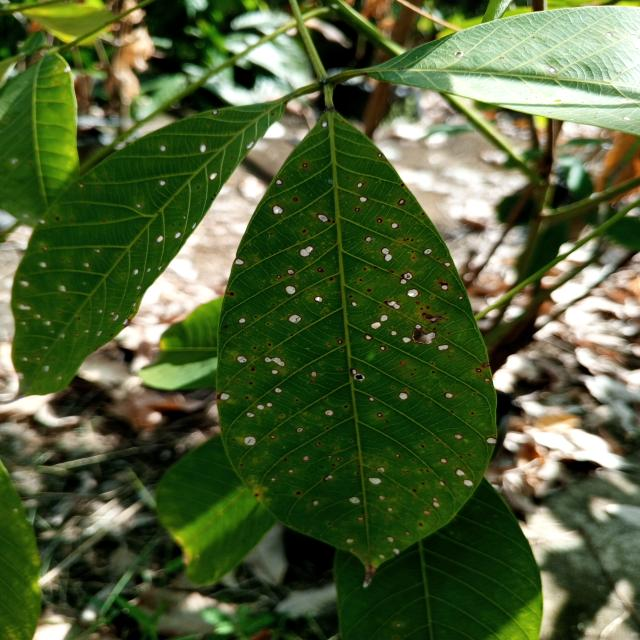Colletotrichum: (299, 245, 314, 257), (244, 435, 258, 446), (288, 314, 302, 324), (406, 288, 419, 298), (284, 285, 296, 295), (272, 205, 284, 215), (316, 213, 328, 223), (398, 392, 409, 401), (236, 356, 248, 364), (486, 436, 497, 444), (402, 272, 413, 280), (437, 344, 449, 351), (370, 322, 381, 329), (455, 468, 464, 476), (286, 268, 295, 276), (384, 254, 393, 262), (463, 479, 473, 486), (220, 393, 230, 400), (234, 258, 244, 265), (381, 247, 389, 255), (423, 248, 432, 255), (444, 392, 454, 398), (295, 427, 304, 433), (376, 466, 385, 472), (402, 337, 411, 343), (314, 296, 323, 302), (381, 315, 388, 322), (376, 412, 384, 418), (438, 480, 446, 486), (302, 455, 310, 461), (325, 410, 333, 416), (274, 387, 282, 393), (379, 345, 387, 351), (365, 334, 373, 340), (238, 317, 246, 323), (360, 196, 368, 202), (453, 434, 462, 439), (246, 412, 255, 417), (257, 404, 264, 410), (310, 371, 317, 377), (351, 301, 358, 307), (441, 284, 448, 290), (391, 223, 398, 229), (398, 199, 405, 205), (390, 331, 398, 336), (352, 368, 358, 374), (365, 236, 371, 242), (440, 458, 447, 463), (415, 324, 422, 329), (271, 369, 278, 374), (444, 262, 451, 267), (376, 218, 383, 223), (483, 378, 491, 382), (378, 495, 386, 499), (356, 516, 364, 520), (266, 402, 272, 407), (357, 183, 363, 188), (432, 502, 439, 506), (369, 397, 374, 402), (476, 368, 482, 372), (270, 435, 276, 439), (387, 507, 393, 511), (250, 367, 256, 371), (317, 268, 323, 272), (276, 275, 282, 279), (316, 442, 321, 446), (412, 488, 417, 492), (338, 340, 343, 344), (458, 296, 463, 300), (329, 277, 334, 281), (355, 208, 360, 212), (293, 198, 298, 202), (366, 289, 372, 292), (302, 229, 306, 233), (348, 295, 353, 298), (396, 454, 400, 457), (336, 458, 342, 460), (288, 470, 294, 472), (331, 464, 335, 466), (416, 302, 418, 304)
